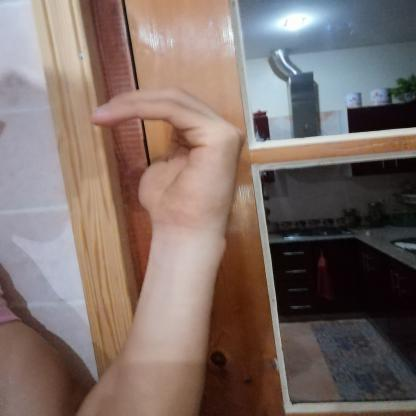HAA: (69, 70, 262, 236)
